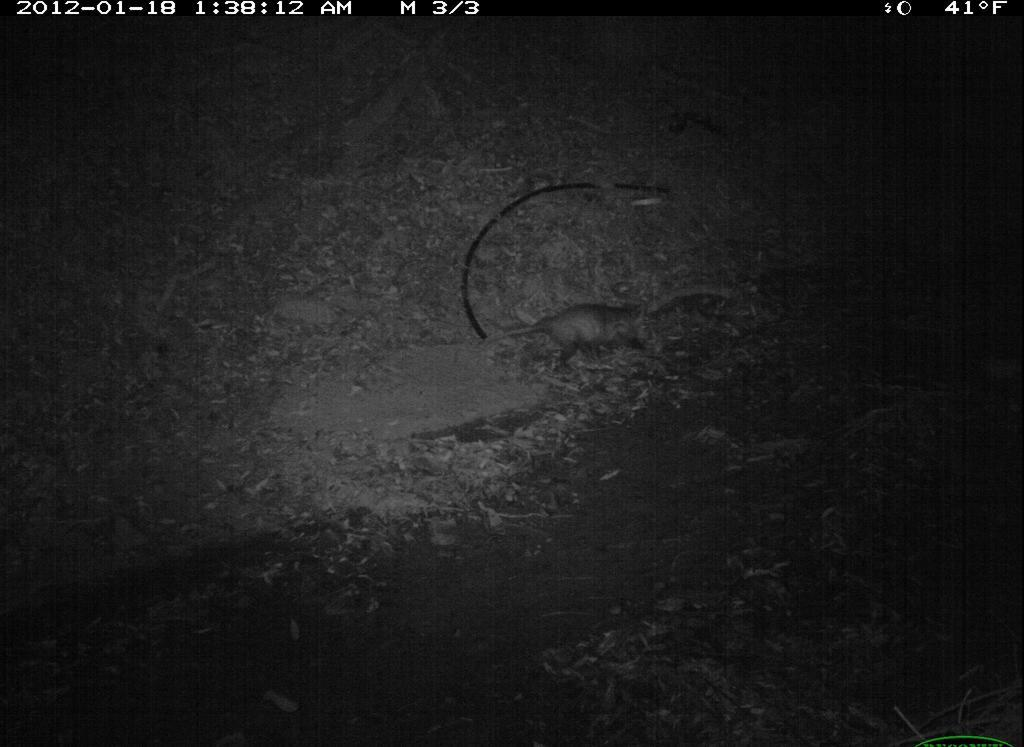opossum: (474, 287, 671, 400)
